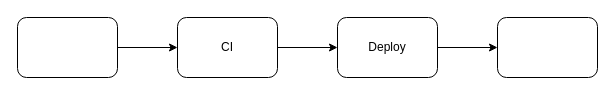
Image size: 615x95. Some labels were removed from this diagram. Here are the shapes that lost their labels. From the top down, the centre of each, then its label:
(67,47): Dev
(547,47): Monitor
